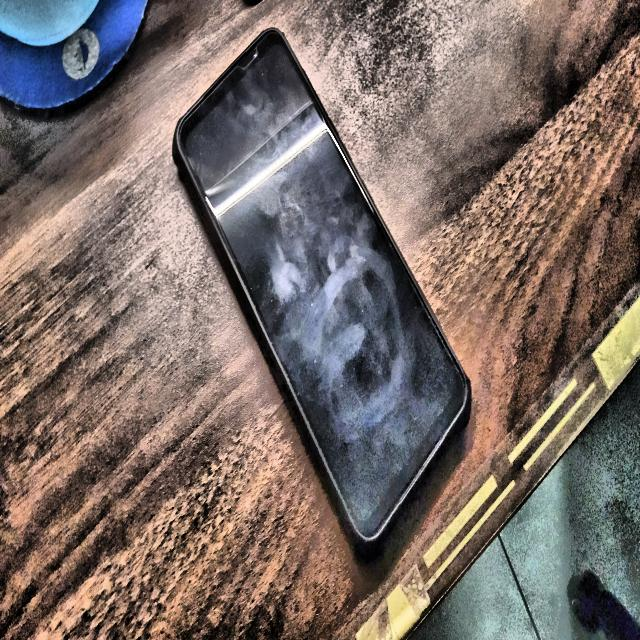PHONE: (173, 29, 471, 543)
